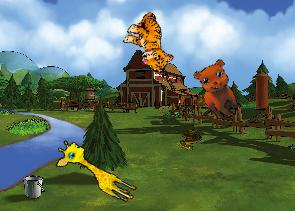bear: (186, 54, 254, 124)
giraffe: (50, 136, 144, 205)
tiger: (116, 7, 186, 76)
